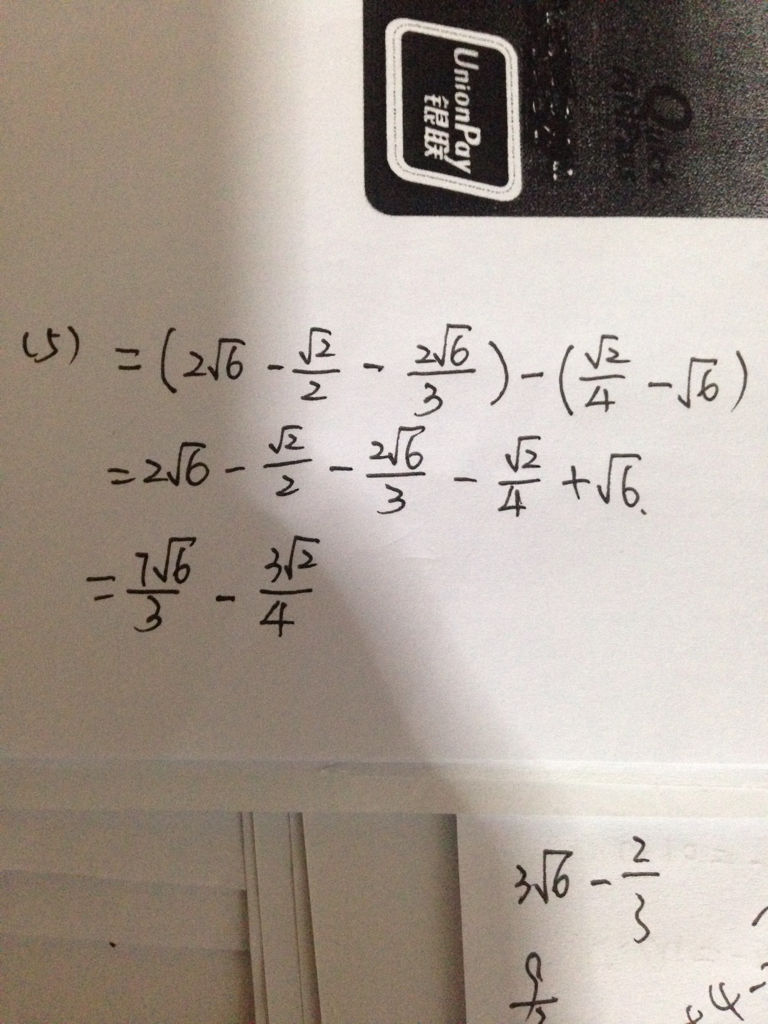division: (255, 577, 317, 606), (366, 461, 440, 484), (406, 364, 487, 382), (123, 583, 185, 606), (254, 452, 316, 474), (489, 472, 547, 495), (570, 364, 627, 386), (293, 364, 344, 381)
sqrt: (597, 445, 652, 515), (674, 346, 723, 416), (204, 326, 255, 389), (148, 531, 202, 586), (166, 434, 217, 491), (583, 317, 635, 370), (536, 843, 577, 907), (281, 529, 327, 583), (389, 417, 436, 469), (435, 315, 479, 369), (502, 431, 542, 475), (268, 419, 312, 455), (299, 322, 333, 368)
